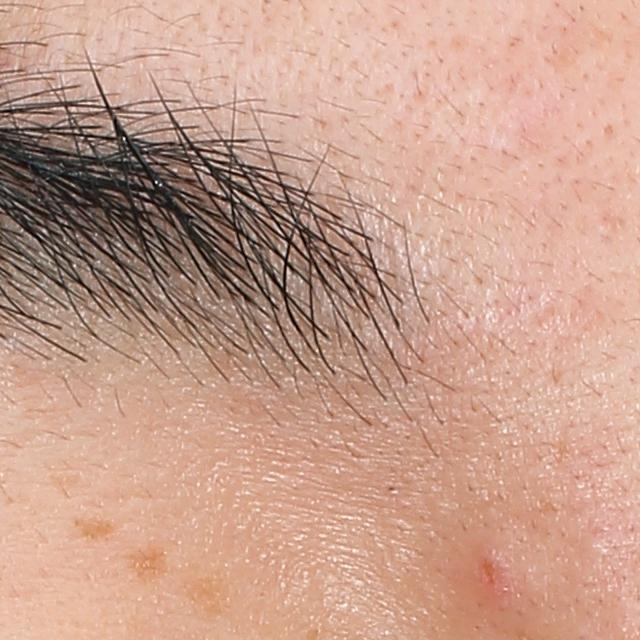melasma: (70, 512, 118, 544), (128, 548, 175, 578)
